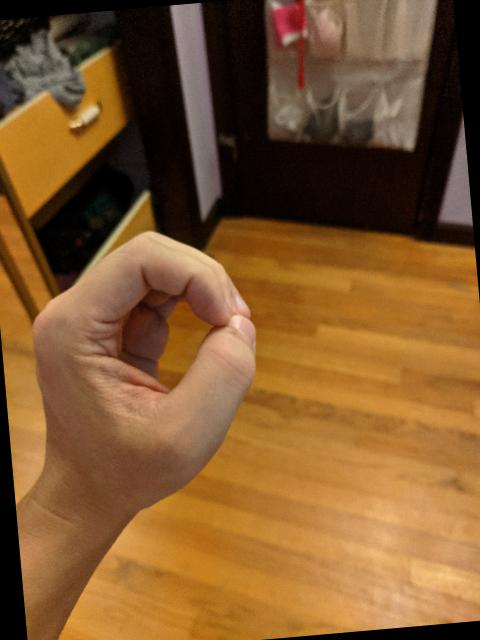O: (15, 216, 276, 528)
